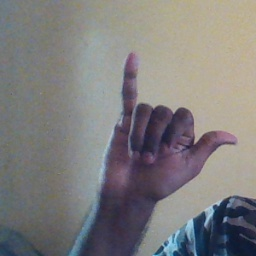J: (100, 51, 237, 200)
